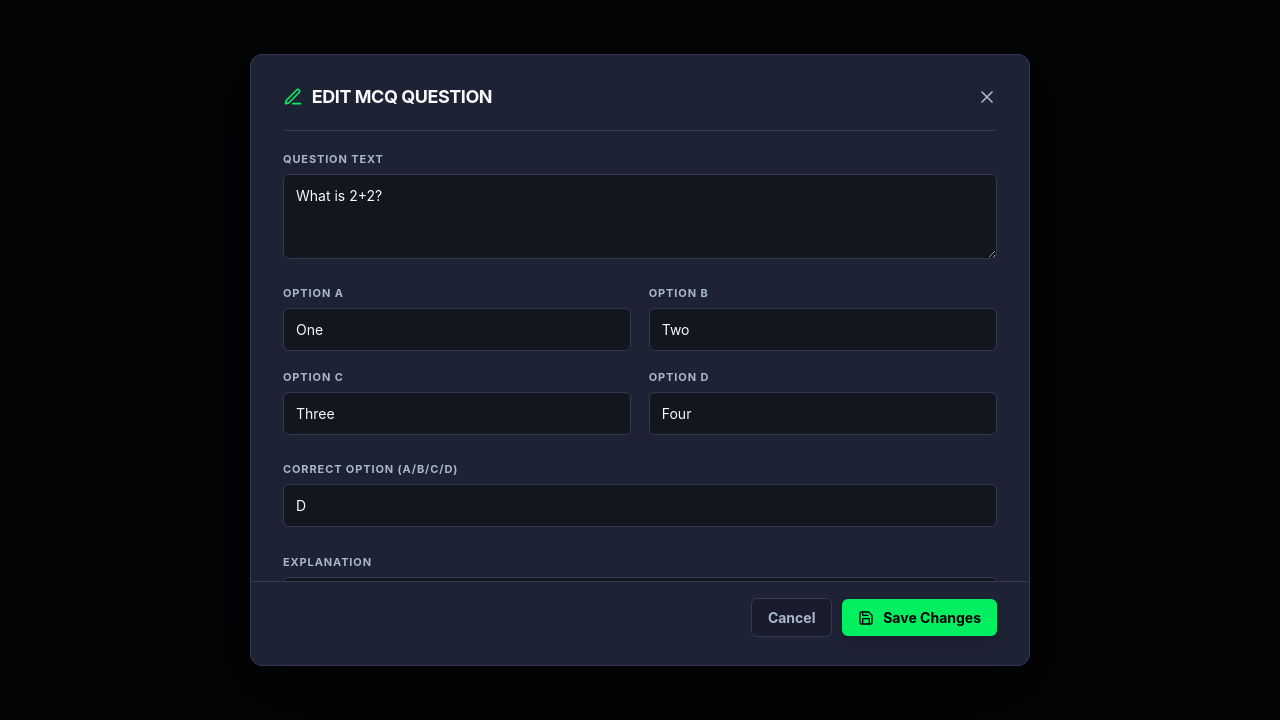
Test case: EditQuestionModal › shows success message after save
Click the button "Save Changes" at (920, 618), box left=842, top=599, right=997, bottom=636
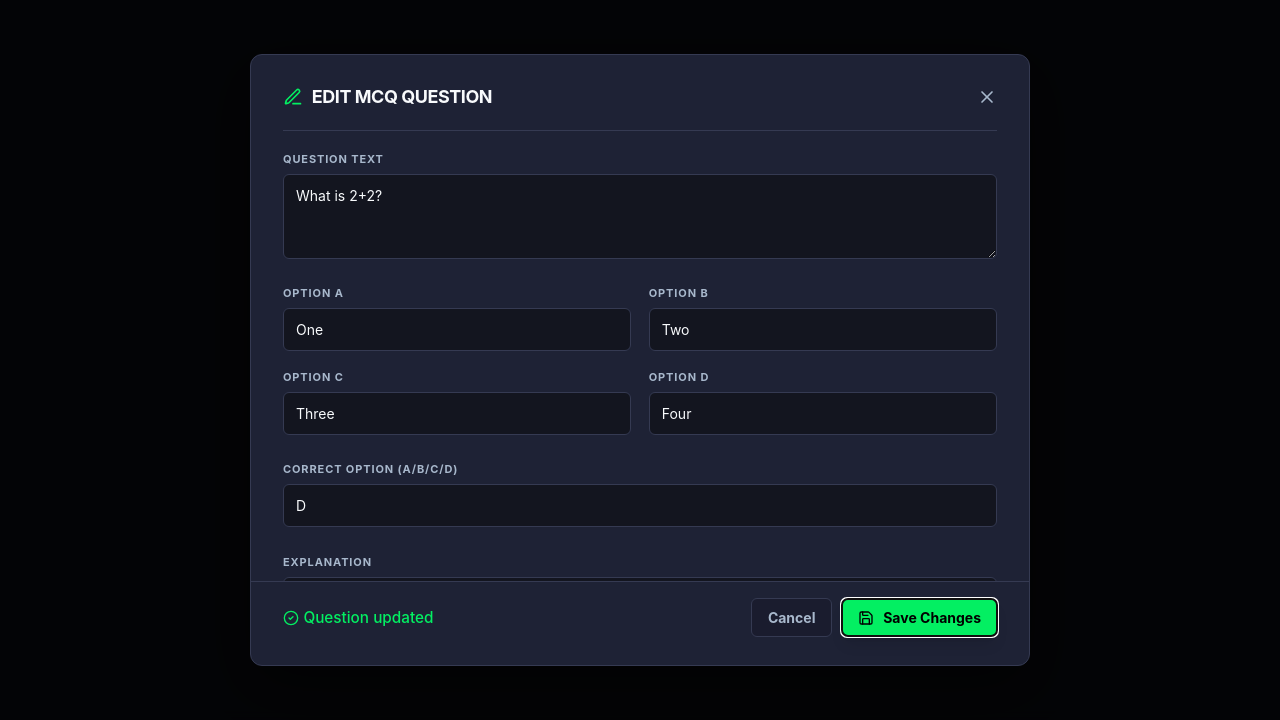
Result: the text "Question updated" is shown at left=283, top=607, right=433, bottom=628
